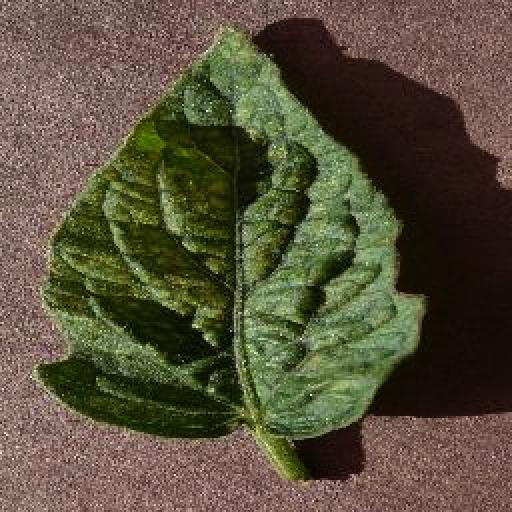disease_tomato: (36, 26, 430, 442)
